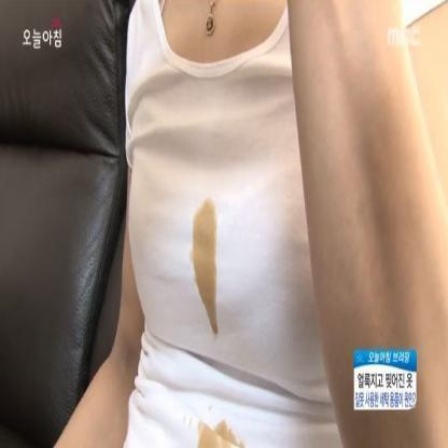coffee: (199, 202, 214, 300)
